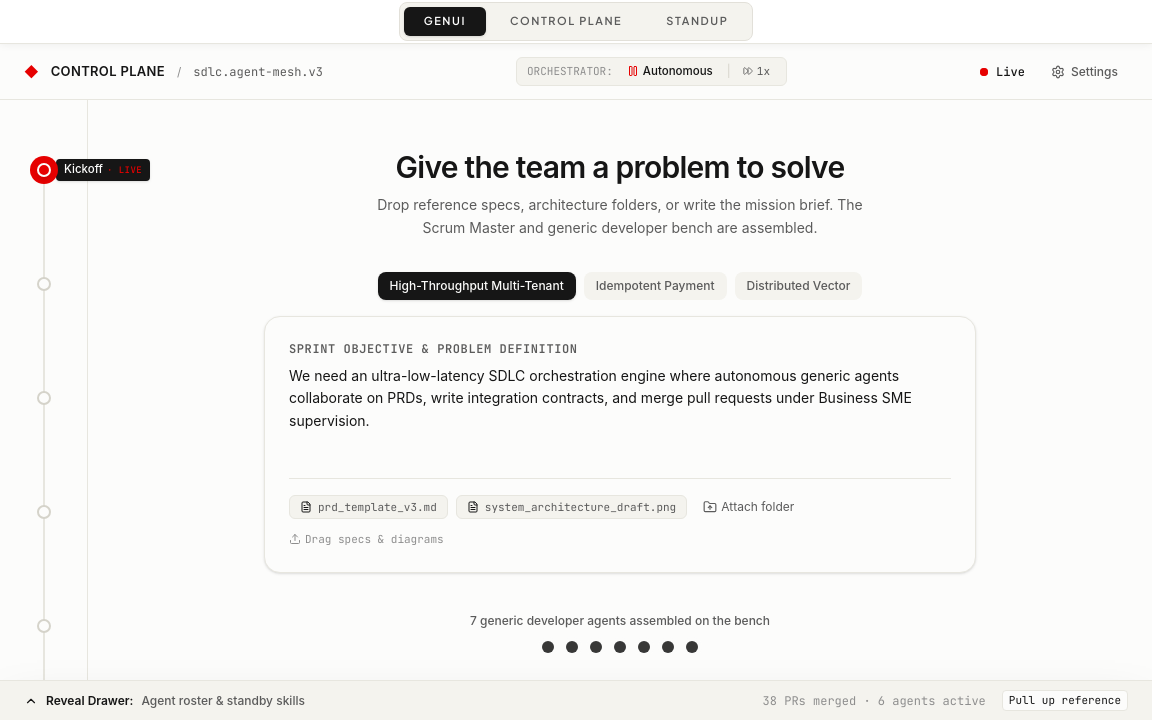
Test: the Standup tab in the workspace › carries on after the question is answered: the decision is made, the action item appears, the meeting finishes
This screenshot has width=1152, height=720.
Click the tab "Standup" at (697, 22), box 646,7 -> 748,36
(page scrolled)
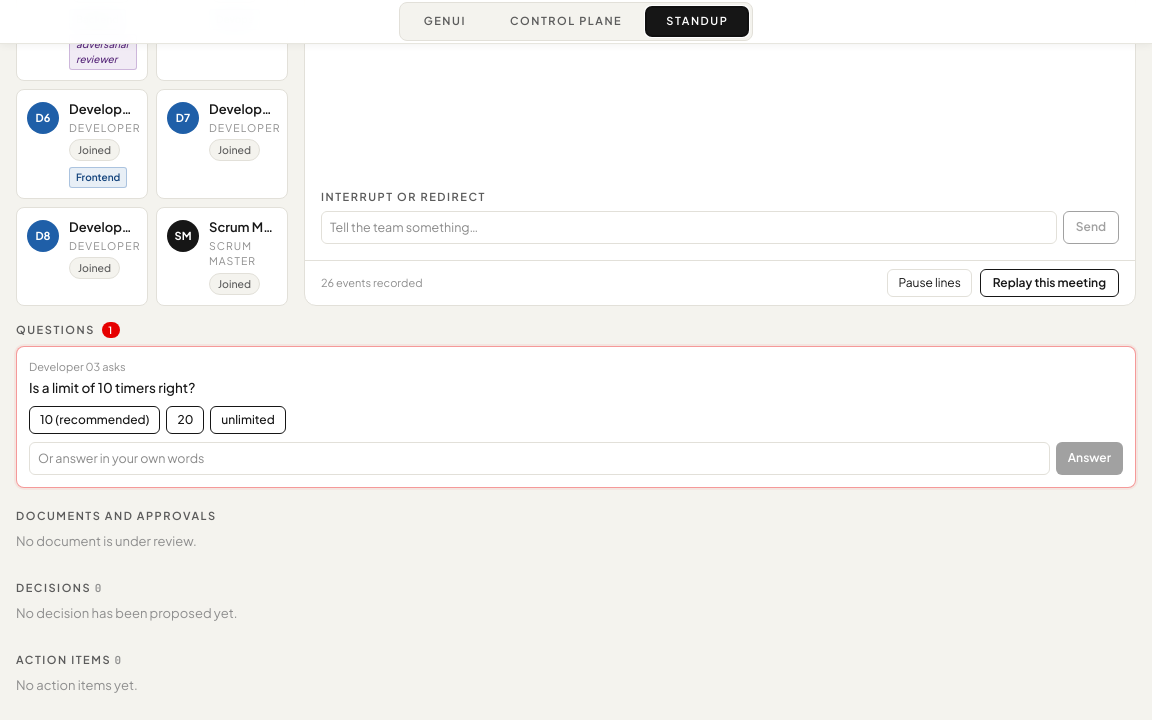
Check: the text "Is a limit of 10 timers right?" is shown, box 29,379 -> 195,396
Click the button "10 (recommended)" at (95, 420), box 29,406 -> 160,434
(page scrolled)
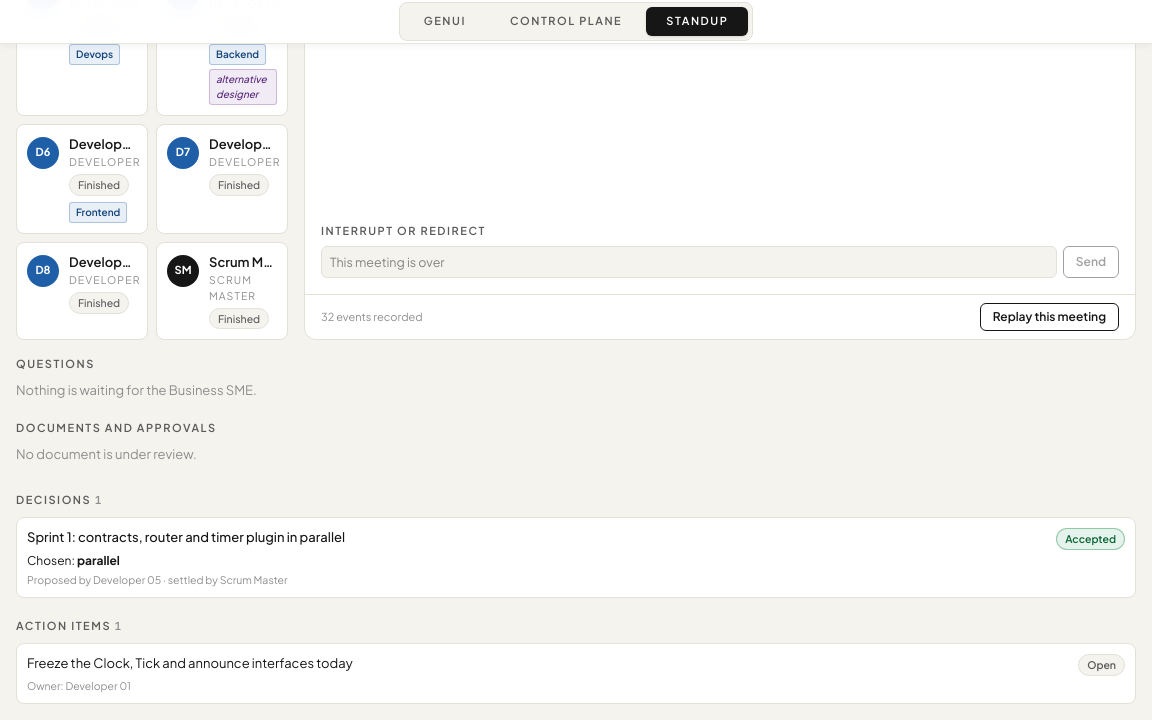
Check: the text "Nothing is waiting for the Business SME." is shown, box 16,382 -> 257,398
Check: the list item with test id "decision" shows "Sprint 1: contracts, router and timer plugin in parallel", box 27,529 -> 345,545
Check: the list item with test id "action-item" shows "Freeze the Clock, Tick and announce interfaces today", box 27,655 -> 353,671
